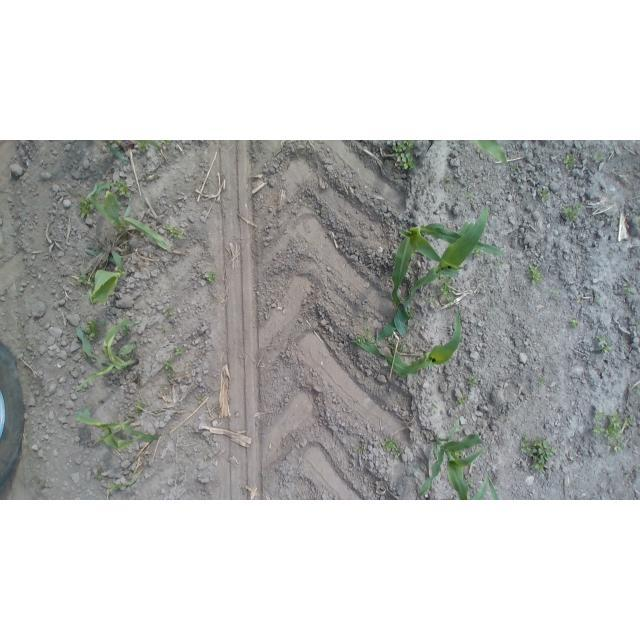Maize: (364, 213, 485, 340), (391, 210, 502, 310), (414, 417, 513, 500), (353, 312, 468, 378), (85, 179, 175, 251), (69, 317, 142, 394), (71, 403, 166, 454), (83, 247, 132, 305), (104, 140, 165, 161), (473, 141, 507, 166)
Weeds: (593, 409, 636, 454), (519, 435, 557, 474), (393, 141, 418, 172), (381, 435, 405, 462), (437, 276, 456, 305), (560, 200, 585, 222), (84, 319, 106, 342), (526, 263, 547, 286), (596, 332, 613, 356), (77, 194, 93, 218), (164, 224, 184, 241), (113, 179, 131, 196), (361, 327, 376, 345), (537, 186, 552, 204), (162, 359, 174, 381), (564, 152, 577, 172), (621, 282, 635, 300), (203, 269, 218, 283), (94, 468, 107, 483), (467, 374, 480, 389), (163, 308, 179, 320), (463, 191, 477, 204), (133, 402, 145, 417), (568, 316, 582, 328), (455, 395, 469, 407), (592, 149, 604, 163), (173, 345, 187, 356), (537, 374, 548, 386), (494, 257, 506, 267), (122, 325, 132, 337), (444, 174, 453, 187), (426, 295, 437, 305), (408, 307, 417, 318), (550, 289, 561, 298), (472, 249, 483, 258), (593, 293, 602, 304), (509, 162, 517, 174), (430, 402, 439, 412)
